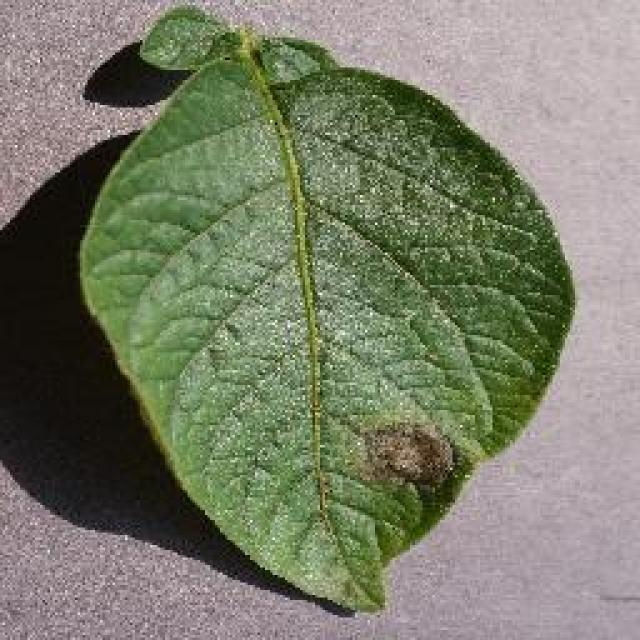Potato___Late_blight: (74, 1, 582, 616)
